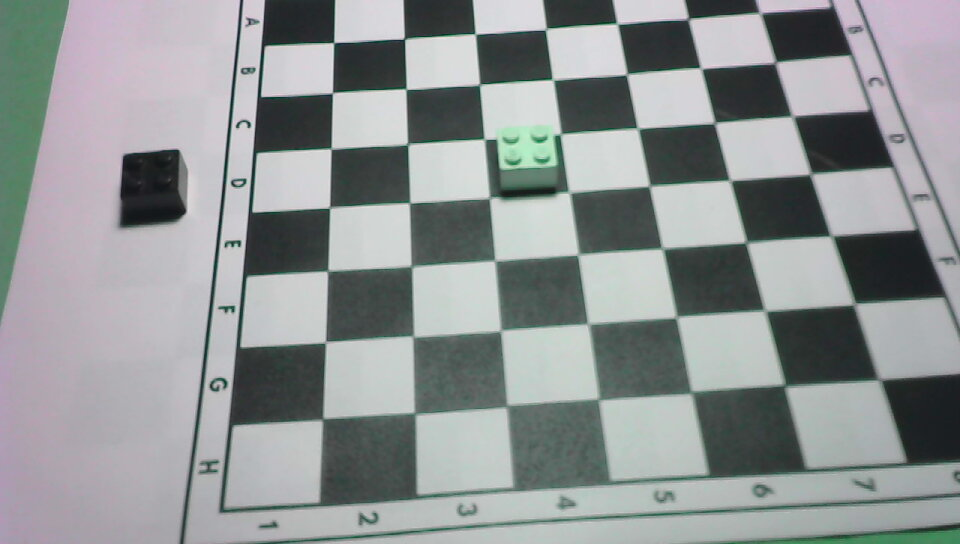wp: (488, 121, 568, 192)
